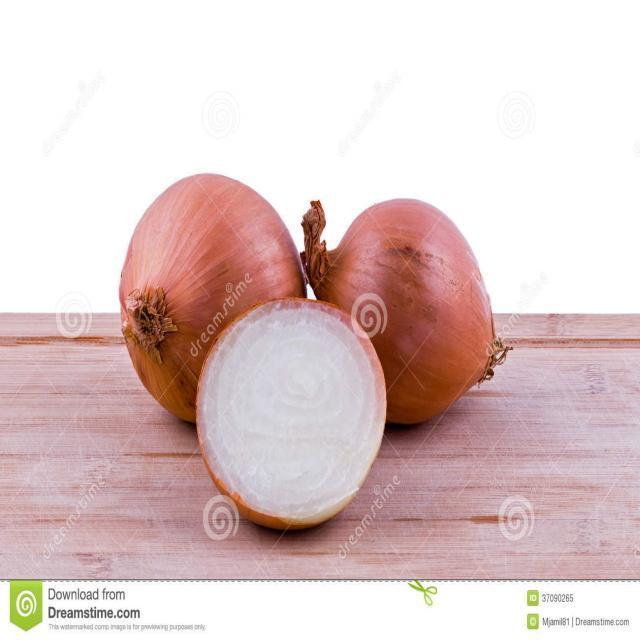onion: (123, 171, 307, 432), (198, 293, 390, 538), (310, 195, 498, 434)
